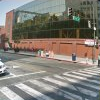crosswalk: (0, 68, 99, 100)
